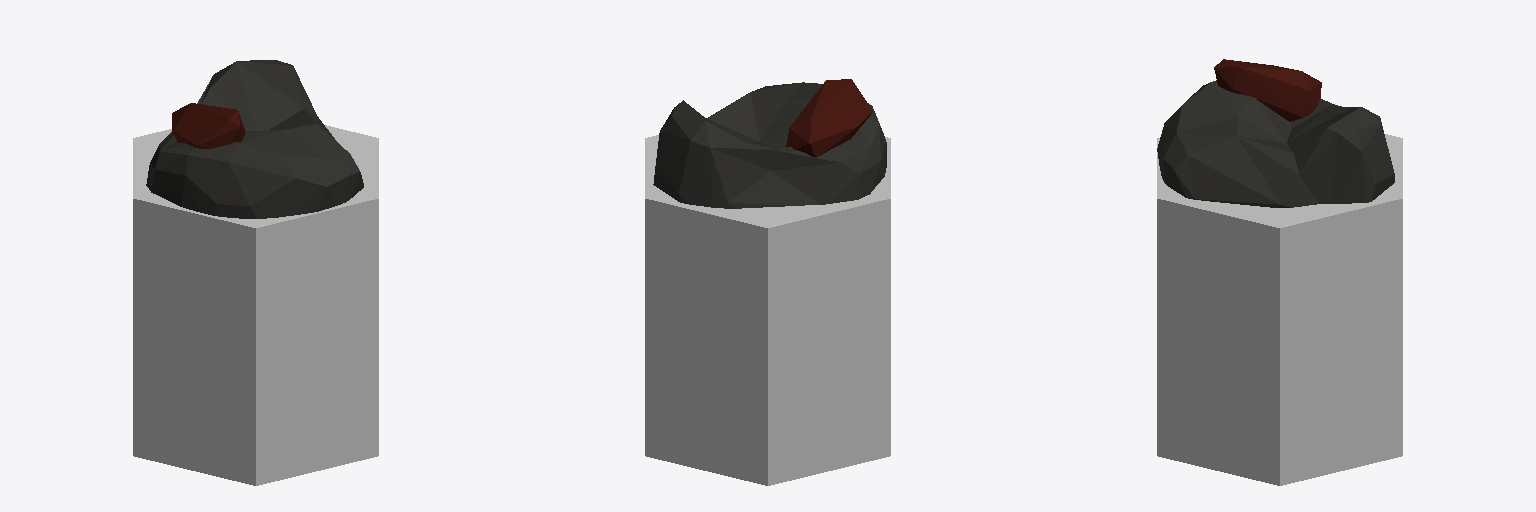
File: mine.obj
The picture shows the model from 3 angles: view 1: azimuth 30°, elevation 25°; view 2: azimuth 150°, elevation 25°; view 3: azimuth 270°, elevation 25°; orthographic projection.
Visible parts, largest first — view 1: Cylinder, Icosphere, Icosphere.001; view 2: Cylinder, Icosphere, Icosphere.001; view 3: Cylinder, Icosphere, Icosphere.001.
Part boxes in pixels (left/top/right/bottom): Cylinder: left=133, top=125, right=378, bottom=485; Icosphere: left=146, top=60, right=363, bottom=218; Icosphere.001: left=172, top=103, right=245, bottom=148; Cylinder: left=645, top=135, right=890, bottom=485; Icosphere: left=653, top=82, right=886, bottom=208; Icosphere.001: left=786, top=79, right=872, bottom=157; Cylinder: left=1157, top=134, right=1402, bottom=485; Icosphere: left=1157, top=80, right=1394, bottom=207; Icosphere.001: left=1214, top=59, right=1321, bottom=121.
Bounding box in the file's own units: 2 × 2.64 × 1.73.